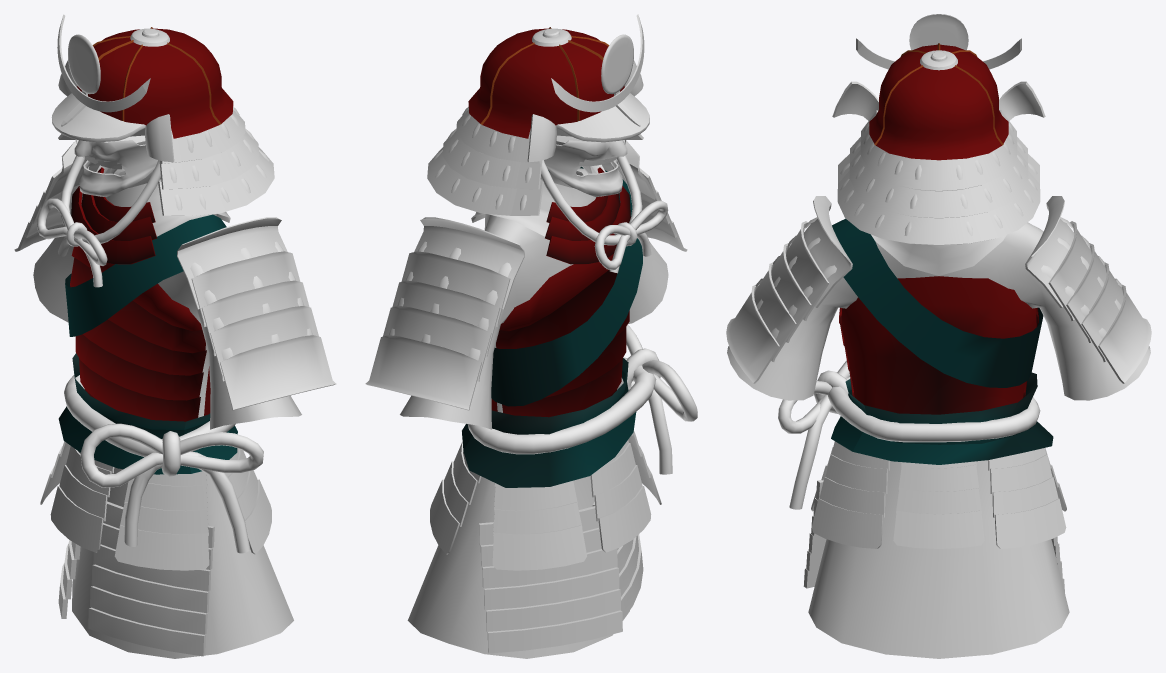
File: samurai.fbx
3 views of the same model, side by side, from view 1: azimuth 30°, elevation 25°; view 2: azimuth 150°, elevation 25°; view 3: azimuth 270°, elevation 25° (orthographic). The views are drawn at different scales.
Parts seen in each view (by area): view 1: Box004, Box025, Cylinder006, Cylinder001, Cylinder009, Cylinder008, Line003, Object017, Box012, Line004, Cylinder004, Object002 (+28 smaller); view 2: Box004, Box025, Cylinder001, Cylinder006, Cylinder009, Cylinder008, Ellipse001, Box012, Object017, Cylinder004, Box015, Object002 (+30 smaller); view 3: Box025, Box004, Cylinder006, Cylinder001, Cylinder009, Cylinder008, Cylinder004, Cylinder003, Object010, Cylinder002, Ellipse001, Object004 (+13 smaller).
Boxes of the visible parts, x1,y1,x2,y2 form: Box004: [14, 135, 336, 410]; Box025: [33, 168, 301, 658]; Cylinder006: [70, 246, 210, 421]; Cylinder001: [77, 27, 233, 138]; Cylinder009: [65, 214, 226, 336]; Cylinder008: [58, 353, 237, 474]; Line003: [80, 423, 250, 553]; Object017: [71, 167, 157, 264]; Box012: [40, 459, 209, 570]; Line004: [124, 432, 263, 546]; Cylinder004: [58, 128, 274, 215]; Object002: [74, 140, 157, 196]; Box004: [365, 135, 687, 410]; Box025: [400, 168, 668, 658]; Cylinder001: [468, 27, 624, 138]; Cylinder006: [491, 253, 629, 417]; Cylinder009: [491, 167, 642, 406]; Cylinder008: [462, 358, 636, 487]; Ellipse001: [467, 357, 656, 454]; Box012: [492, 459, 661, 570]; Object017: [545, 167, 630, 264]; Cylinder004: [427, 128, 643, 215]; Box015: [484, 567, 619, 610]; Object002: [544, 140, 627, 196]; Box025: [727, 222, 1150, 658]; Box004: [726, 196, 1151, 383]; Cylinder006: [839, 276, 1038, 414]; Cylinder001: [869, 43, 1008, 160]; Cylinder009: [832, 218, 1043, 387]; Cylinder008: [831, 372, 1053, 464]; Cylinder004: [837, 154, 1040, 245]; Cylinder003: [849, 137, 1028, 218]; Object010: [811, 498, 1066, 548]; Cylinder002: [860, 110, 1017, 191]; Ellipse001: [828, 377, 1040, 442]; Object004: [893, 510, 984, 548].
Size of the model in its own units: 47.03 by 122 by 82.77.
